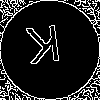K: (25, 25, 64, 74)
